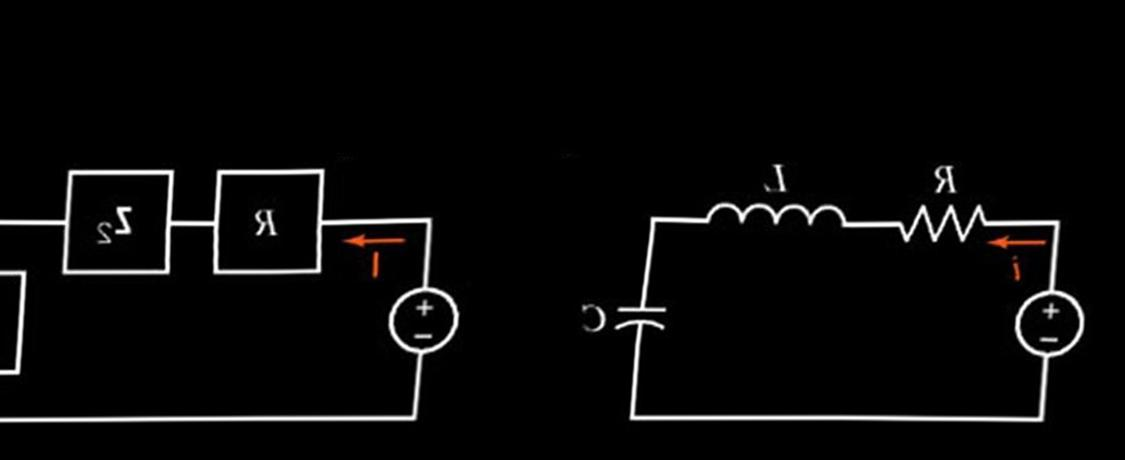Battery: (353, 260, 503, 362), (977, 278, 1110, 369)
